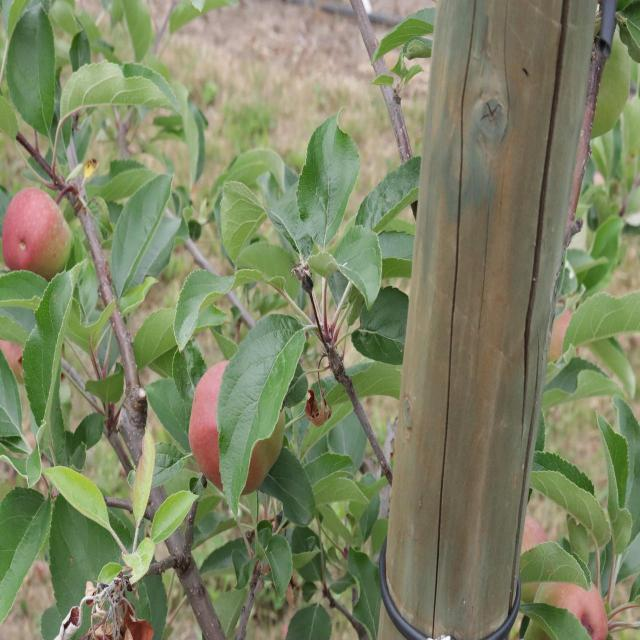-FireBlight-: (71, 561, 157, 640), (302, 385, 334, 418)
